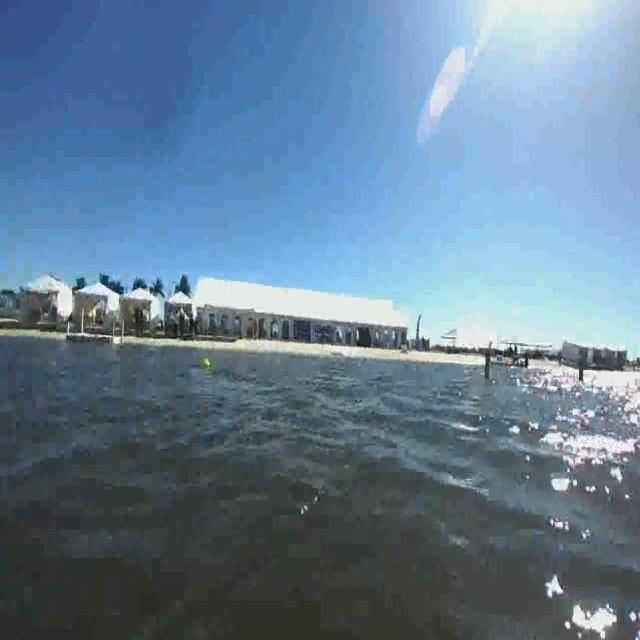yellow-buoy: (203, 354, 213, 370)
